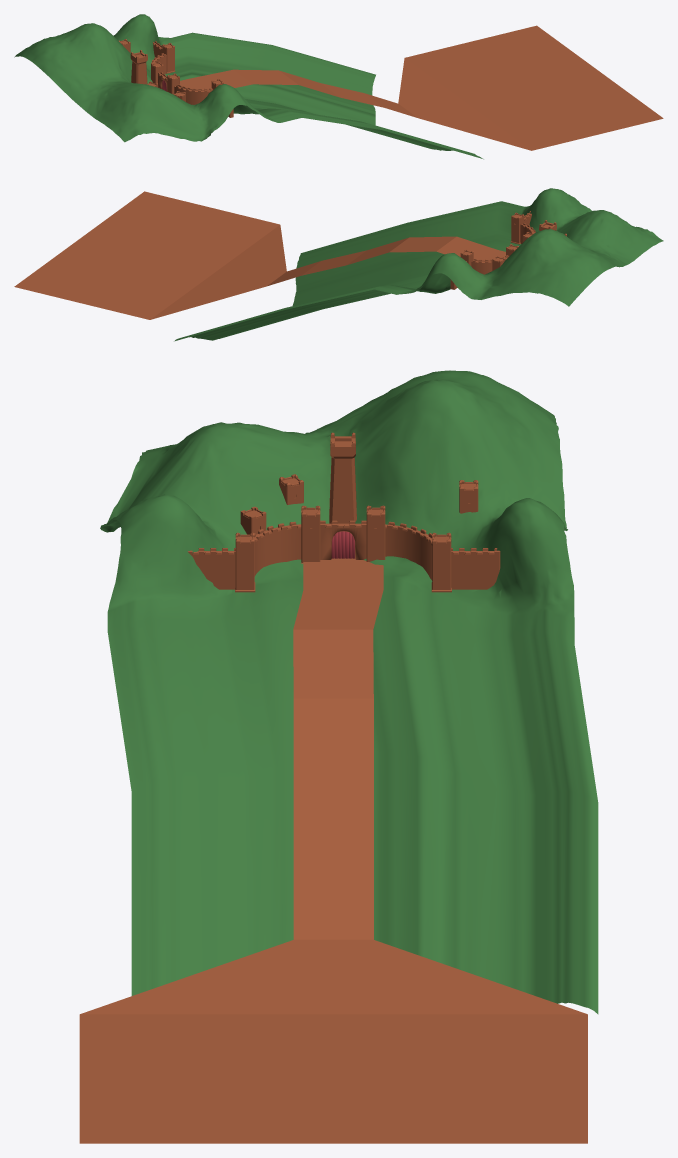
File: CastleLayout1.fbx
The picture shows the model from 3 angles, top to bottom: view 1: azimuth 30°, elevation 25°; view 2: azimuth 150°, elevation 25°; view 3: azimuth 270°, elevation 25°; orthographic projection. The views are drawn at different scales.
Visible parts, largest first — view 1: Plane.002, Plane.003, Cube.014, Cube.004, Cube.024; view 2: Plane.002, Plane.003, Cube.012, Cube.015; view 3: Plane.002, Plane.003, Cube.014, Cube.026, Cube.004, Cube.015, Cube.013, Cube.009, Cube.012, Cube.024, Cube.011, Cube.025.
Part boxes in pixels (box(x1,y1,x2,y2)): Plane.002: box(14, 14, 483, 159); Plane.003: box(180, 25, 663, 150); Cube.014: box(130, 50, 147, 84); Cube.004: box(174, 84, 212, 104); Cube.024: box(162, 43, 175, 73); Plane.002: box(174, 188, 663, 341); Plane.003: box(14, 191, 505, 319); Cube.012: box(510, 212, 523, 244); Cube.015: box(471, 255, 508, 274); Plane.002: box(100, 370, 598, 1014); Plane.003: box(79, 558, 587, 1143); Cube.014: box(329, 432, 356, 523); Cube.026: box(451, 548, 500, 589); Cube.004: box(254, 521, 301, 576); Cube.015: box(385, 521, 432, 580); Cube.013: box(188, 548, 235, 589); Cube.009: box(320, 520, 366, 559); Cube.012: box(235, 532, 255, 592); Cube.024: box(431, 532, 451, 592); Cube.011: box(301, 505, 320, 563); Cube.025: box(366, 505, 385, 561).
Size of the model in its own units: 57814 by 16844 by 24087.
